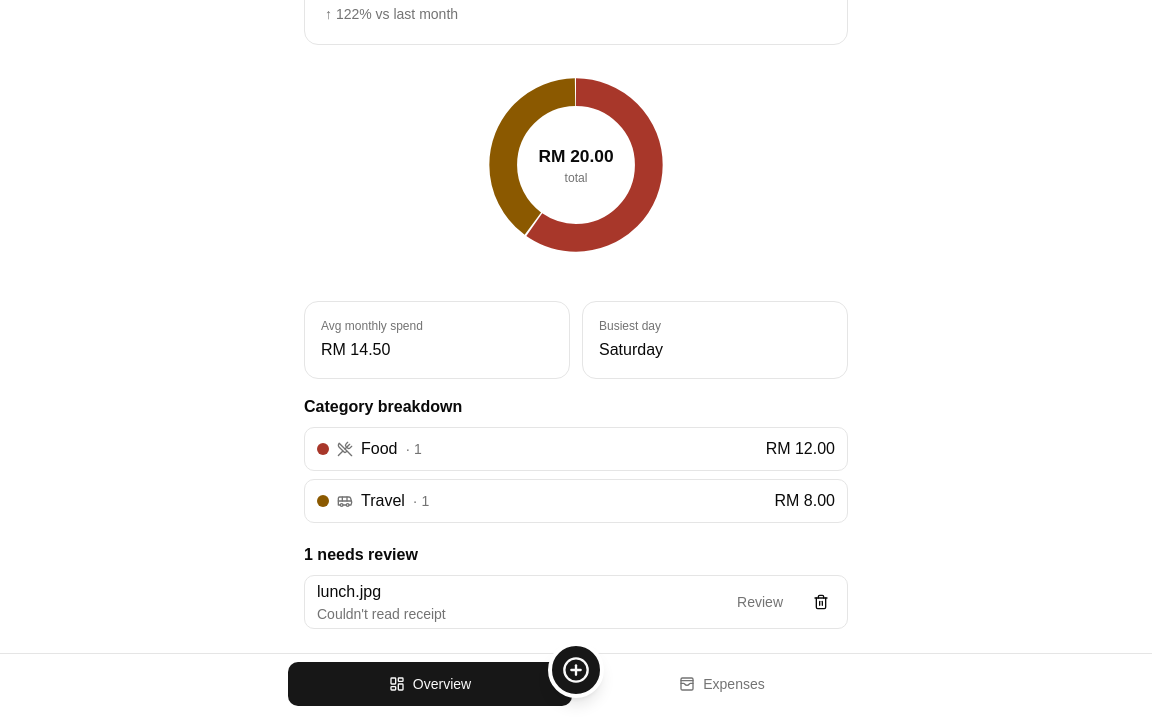
overview › EXP-55 keeps receipt deletion working from Needs review
The width and height of the screenshot is (1152, 717).
(page scrolled)
Expected: the heading "1 needs review" is shown, [304,546,418,563]
Click the button named "Delete lunch.jpg".
click(821, 602)  # box [799,580,843,624]
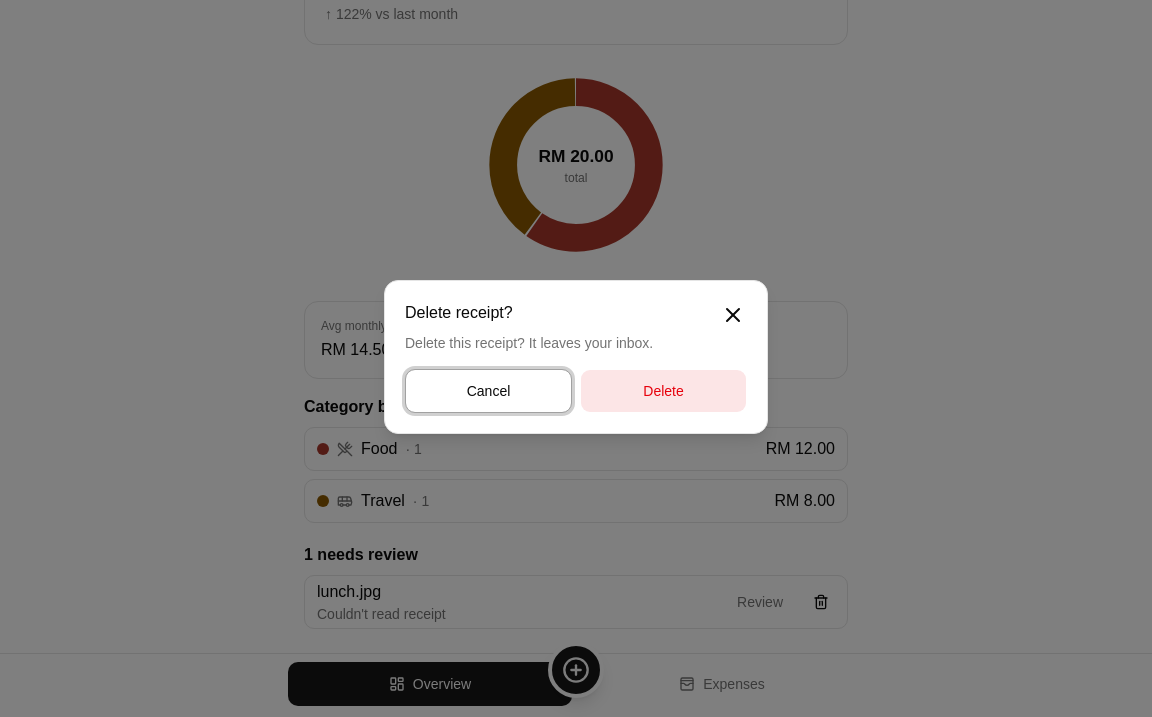
Click the button "Delete".
click(664, 391)  # box [580,369,747,413]
(page scrolled)
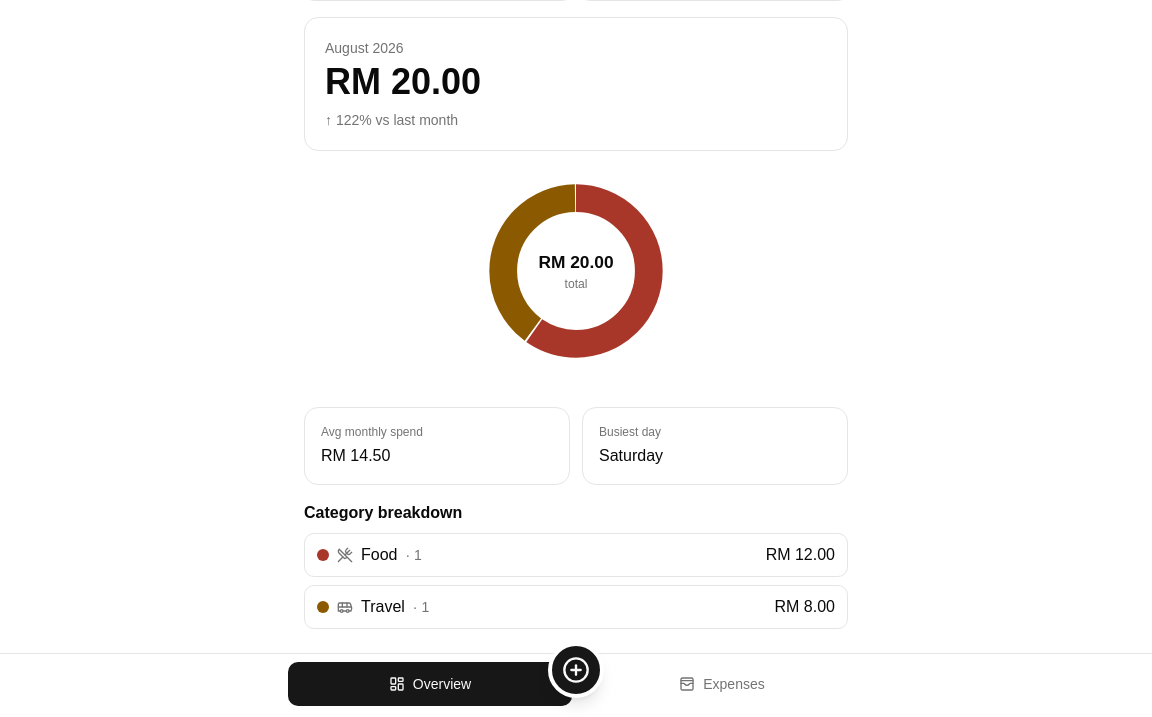
Expected: the heading "1 needs review" is gone
